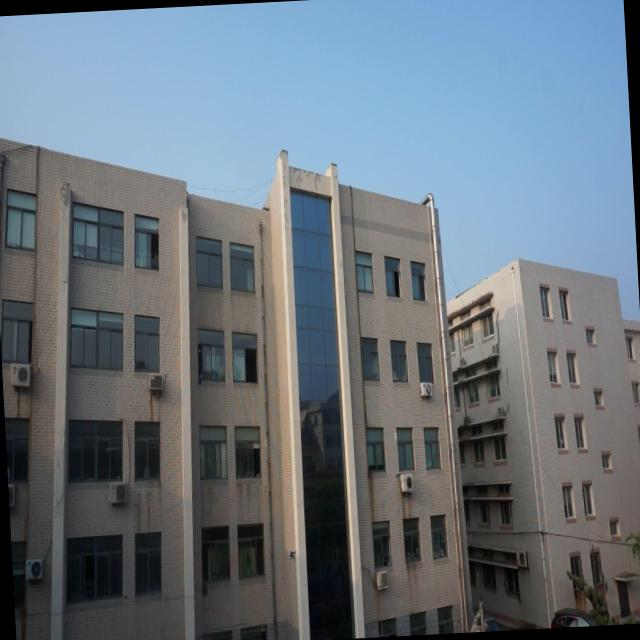drone: (289, 546, 298, 564)
